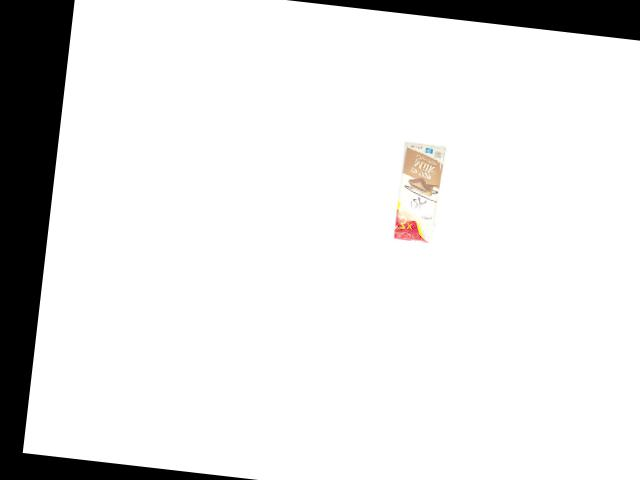chocolate: (390, 143, 447, 245)
